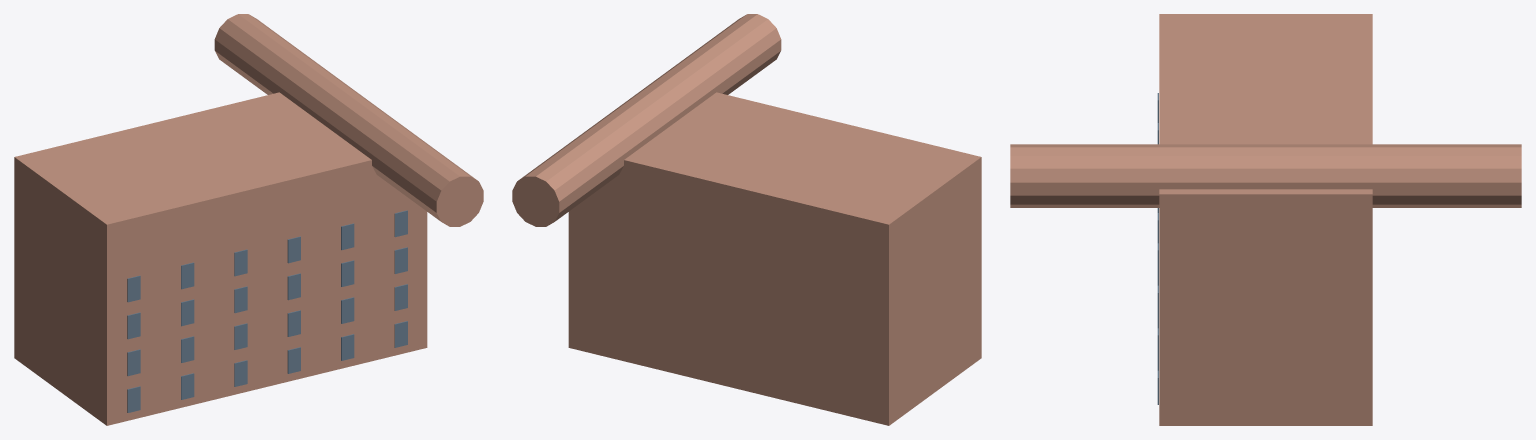
The model's file is quequechan_mill.glb.
The picture shows the model from 3 angles, left to right: view 1: azimuth 30°, elevation 25°; view 2: azimuth 150°, elevation 25°; view 3: azimuth 270°, elevation 25°; orthographic projection. The views are drawn at different scales.
Visible parts, largest first — view 1: body, chimney; view 2: body, chimney; view 3: body, chimney.
Part boxes in pixels (<box>): body: <box>14,92,427,425</box>; chimney: <box>214,14,483,226</box>; body: <box>568,92,981,425</box>; chimney: <box>512,14,781,226</box>; body: <box>1159,14,1372,425</box>; chimney: <box>1010,144,1521,207</box>.
Size of the model in its own units: 20 by 13.5 by 24.
